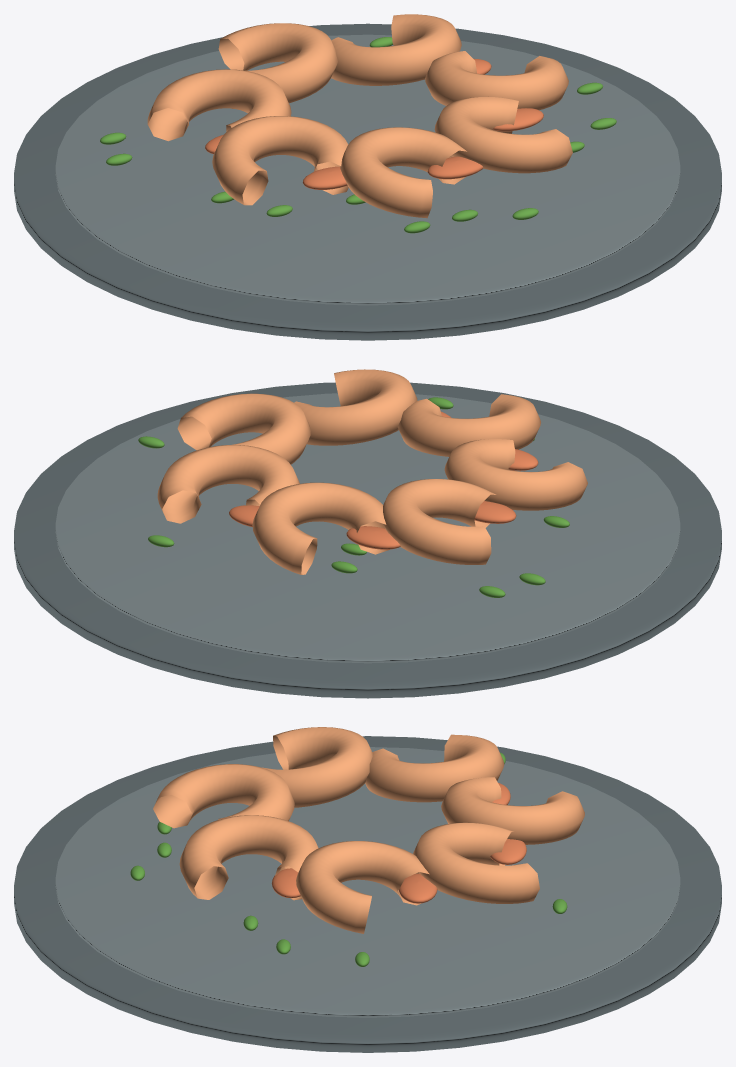
File: shrimp.glb
The picture shows the model from 3 angles, top to bottom: view 1: azimuth 30°, elevation 25°; view 2: azimuth 150°, elevation 25°; view 3: azimuth 270°, elevation 25°; orthographic projection.
Bounding box in the file's own units: 0.29 × 0.0475 × 0.29.
